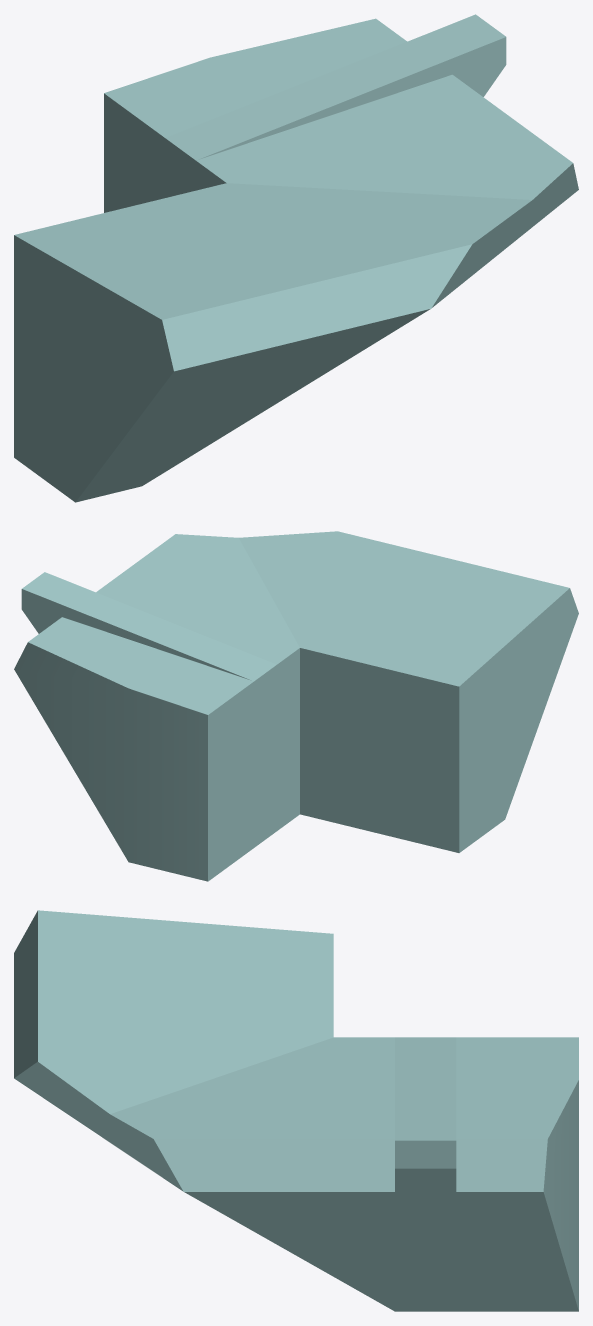
File: x_kray_obriv_blue_19_1_mirror.fbx
3 views of the same model, one above another, from view 1: azimuth 30°, elevation 25°; view 2: azimuth 150°, elevation 25°; view 3: azimuth 270°, elevation 25° (orthographic). The views are drawn at different scales.
Parts seen in each view (by area): view 1: x_kray_obriv_blue_19_1_mirror1; view 2: x_kray_obriv_blue_19_1_mirror1; view 3: x_kray_obriv_blue_19_1_mirror1.
Boxes of the visible parts, box(x1,y1,x2,y2) form: x_kray_obriv_blue_19_1_mirror1: box(14, 14, 578, 502); x_kray_obriv_blue_19_1_mirror1: box(14, 531, 578, 881); x_kray_obriv_blue_19_1_mirror1: box(14, 910, 578, 1311).
Size of the model in its own units: 2.46 by 1.22 by 2.3.
